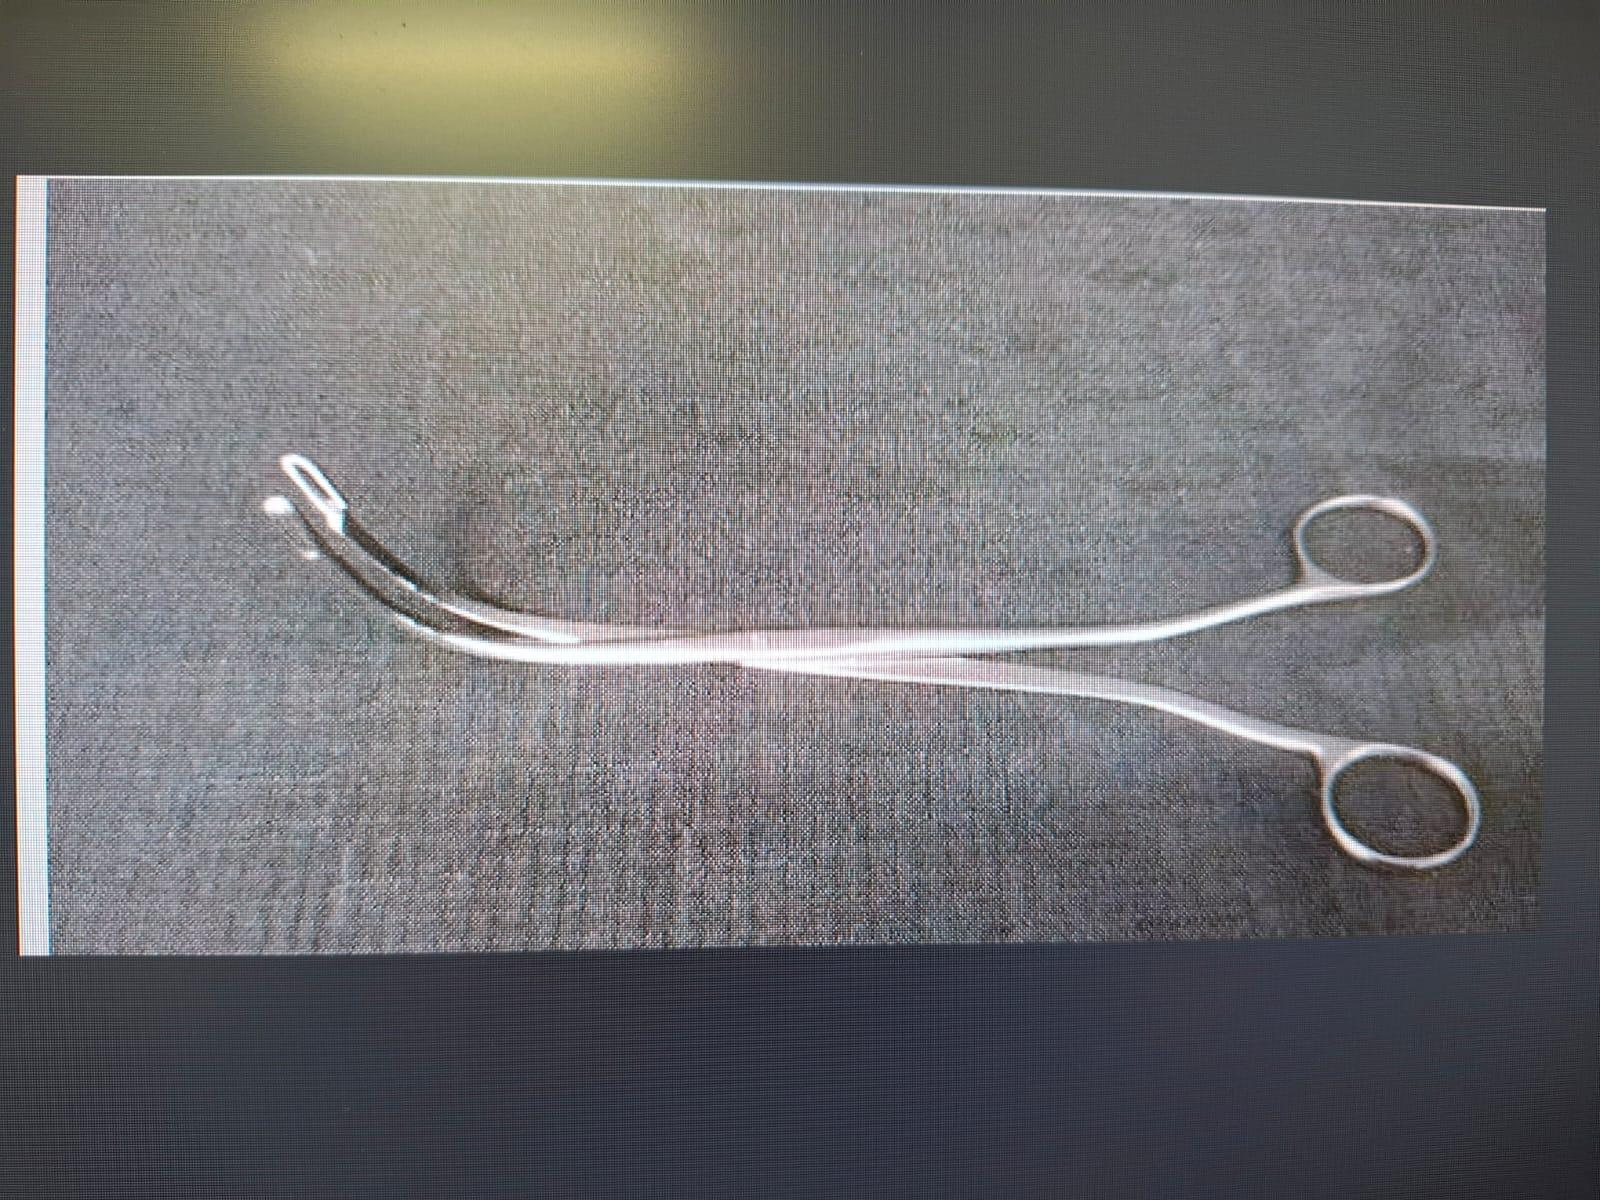Randall Forceps: (242, 408, 1484, 896)
